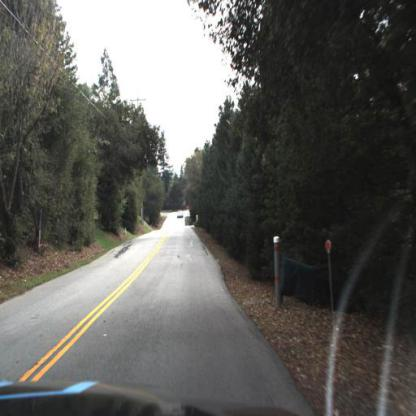car: (174, 206, 184, 225), (175, 207, 185, 224)
